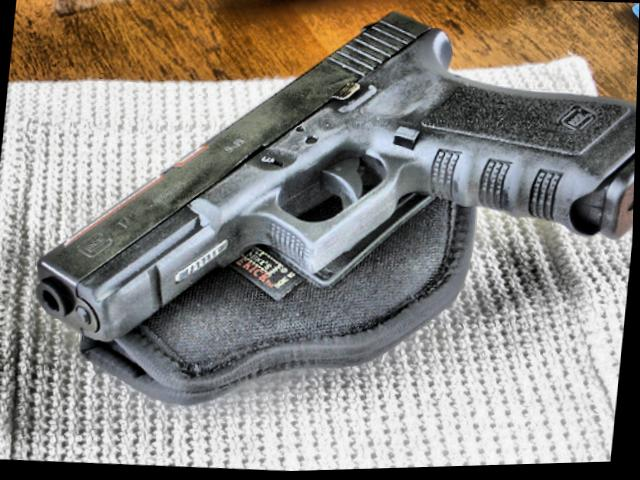pistol: (27, 0, 640, 378)
